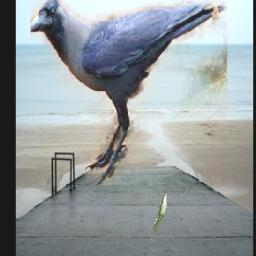Crow: (31, 0, 227, 185)
Cuckoo: (150, 194, 167, 234)
